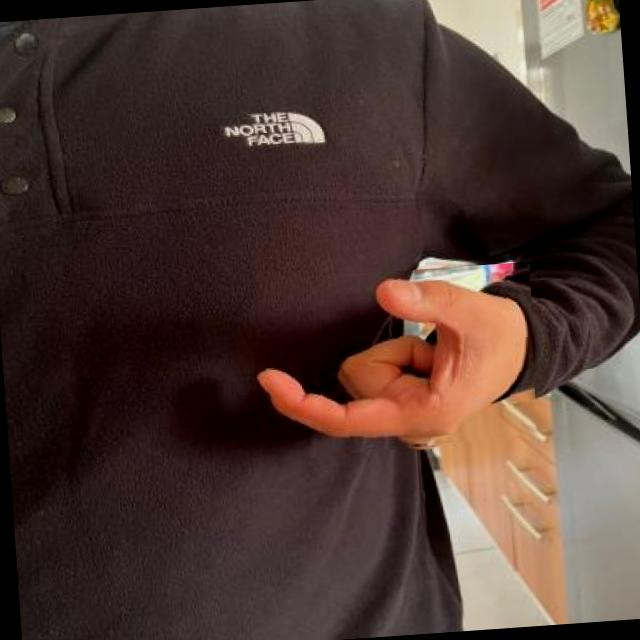G: (248, 262, 542, 464)
